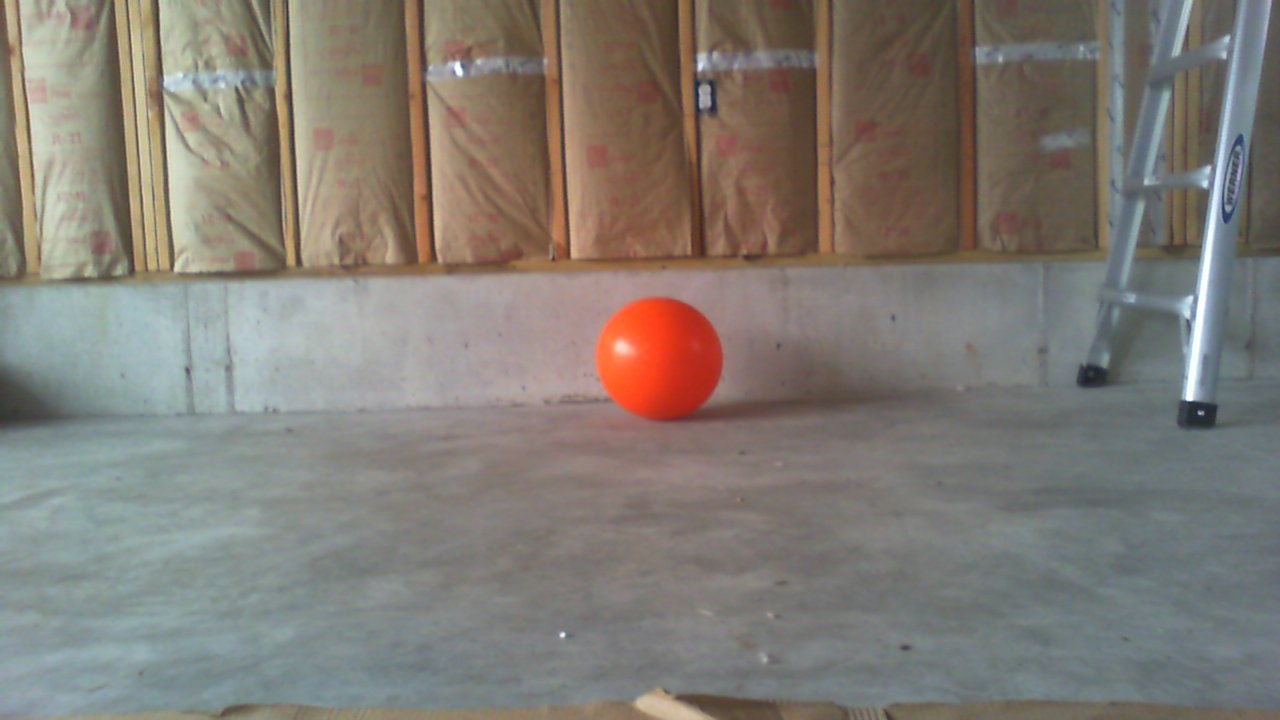Ball: (595, 296, 722, 419)
